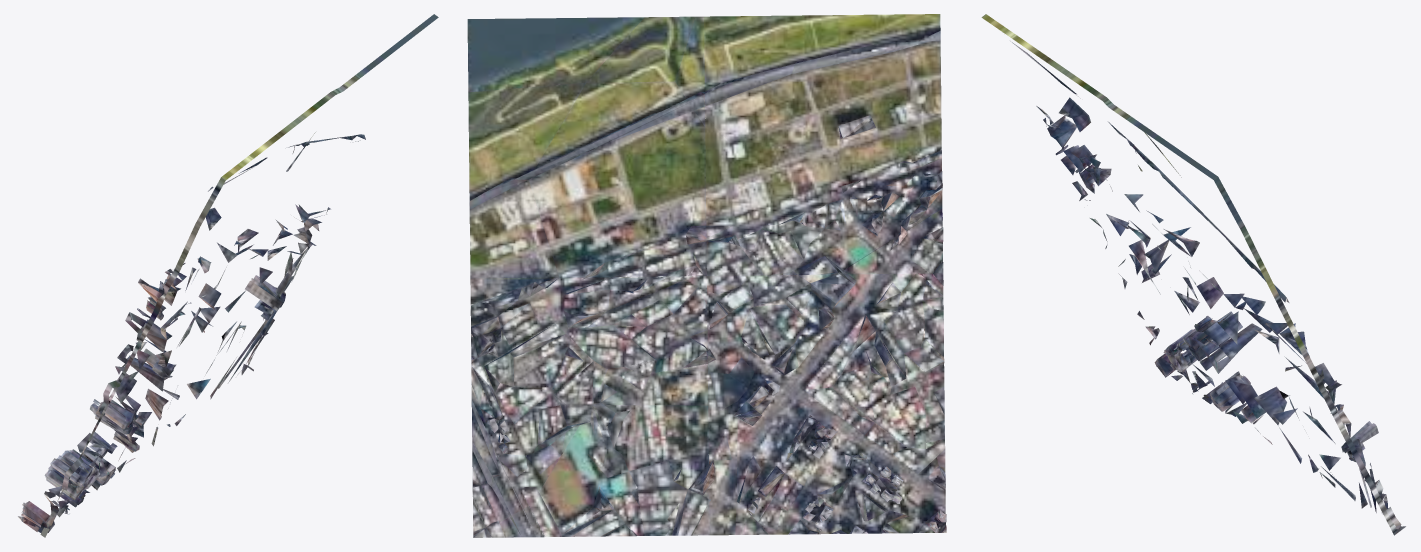
3 views of the same model, side by side, from view 1: azimuth 30°, elevation 25°; view 2: azimuth 150°, elevation 25°; view 3: azimuth 270°, elevation 25° (orthographic). The views are drawn at different scales.
Size of the model in its own units: 1263 by 1112 by 1053.
Materials: 2 (2 with a texture image).
